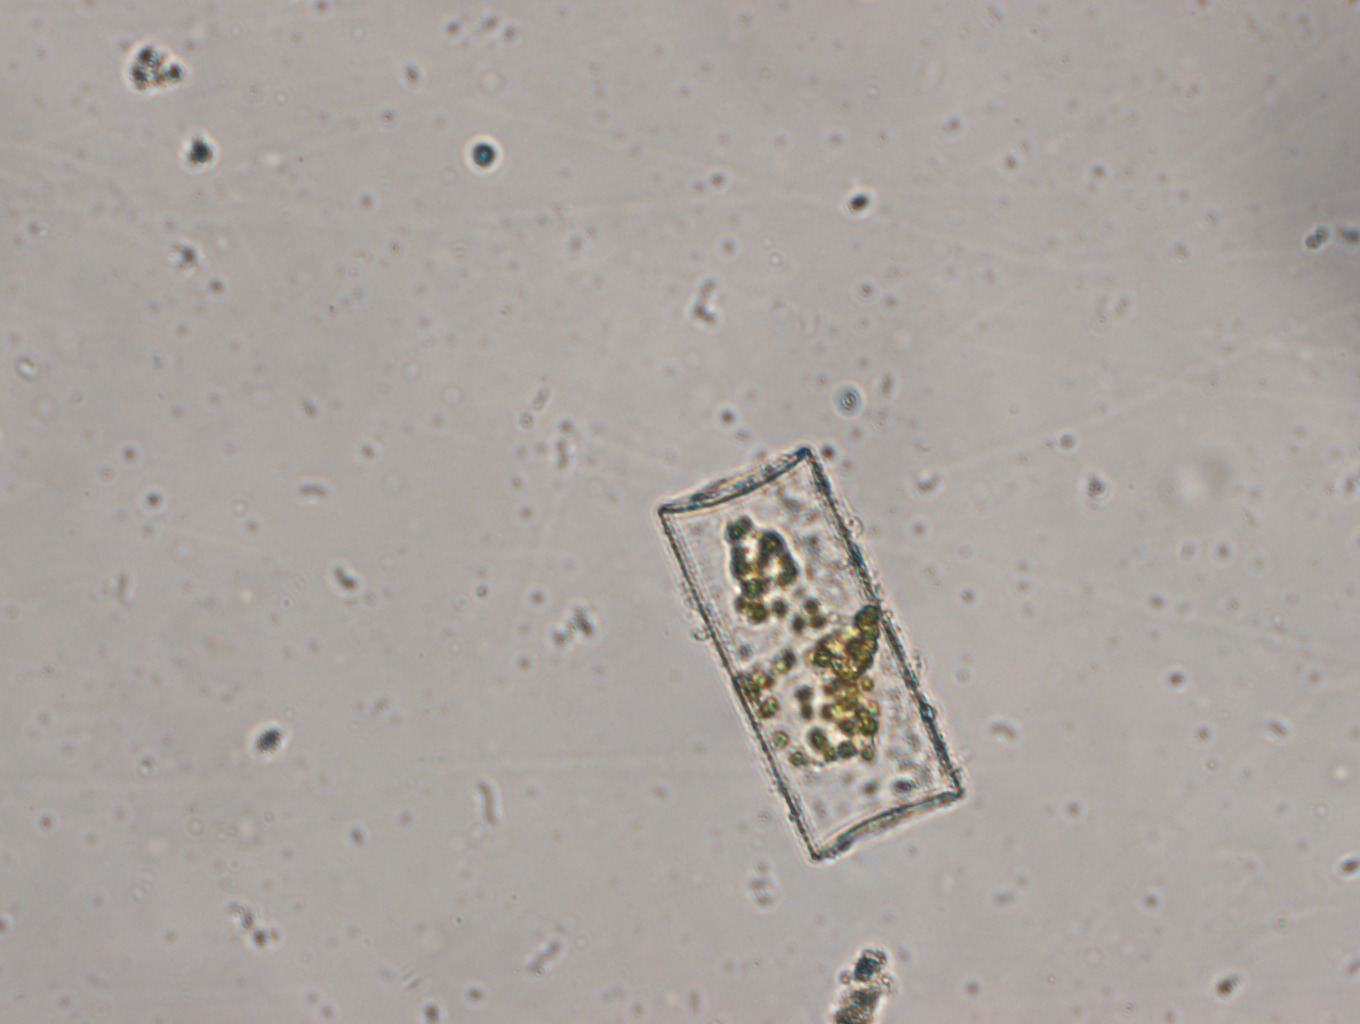guinardia flaccida: (652, 444, 969, 869)
